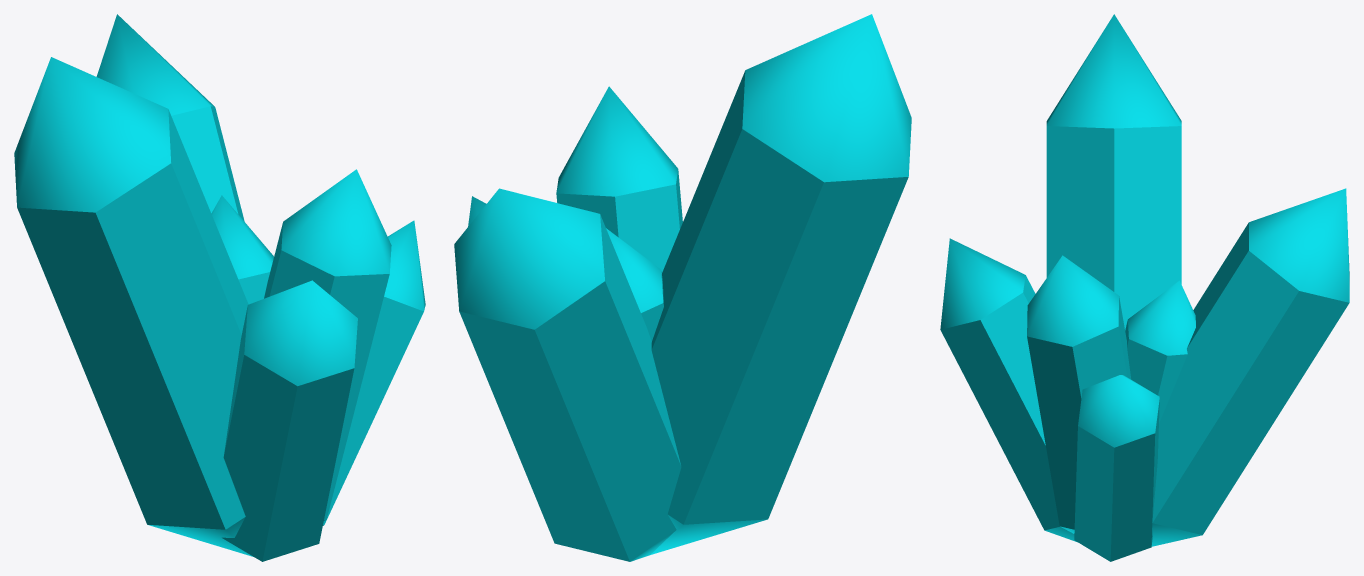
File: Crystal1.fbx
3 views of the same model, side by side, from view 1: azimuth 30°, elevation 25°; view 2: azimuth 150°, elevation 25°; view 3: azimuth 270°, elevation 25° (orthographic). The views are drawn at different scales.
Parts seen in each view (by area): view 1: CrystalBlue1; view 2: CrystalBlue1; view 3: CrystalBlue1.
Boxes of the visible parts, x1,y1,x2,y2 form: CrystalBlue1: (14, 14, 425, 561); CrystalBlue1: (454, 14, 911, 561); CrystalBlue1: (940, 14, 1349, 561).
Bounding box in the file's own units: 5.03 × 6.49 × 5.25.
